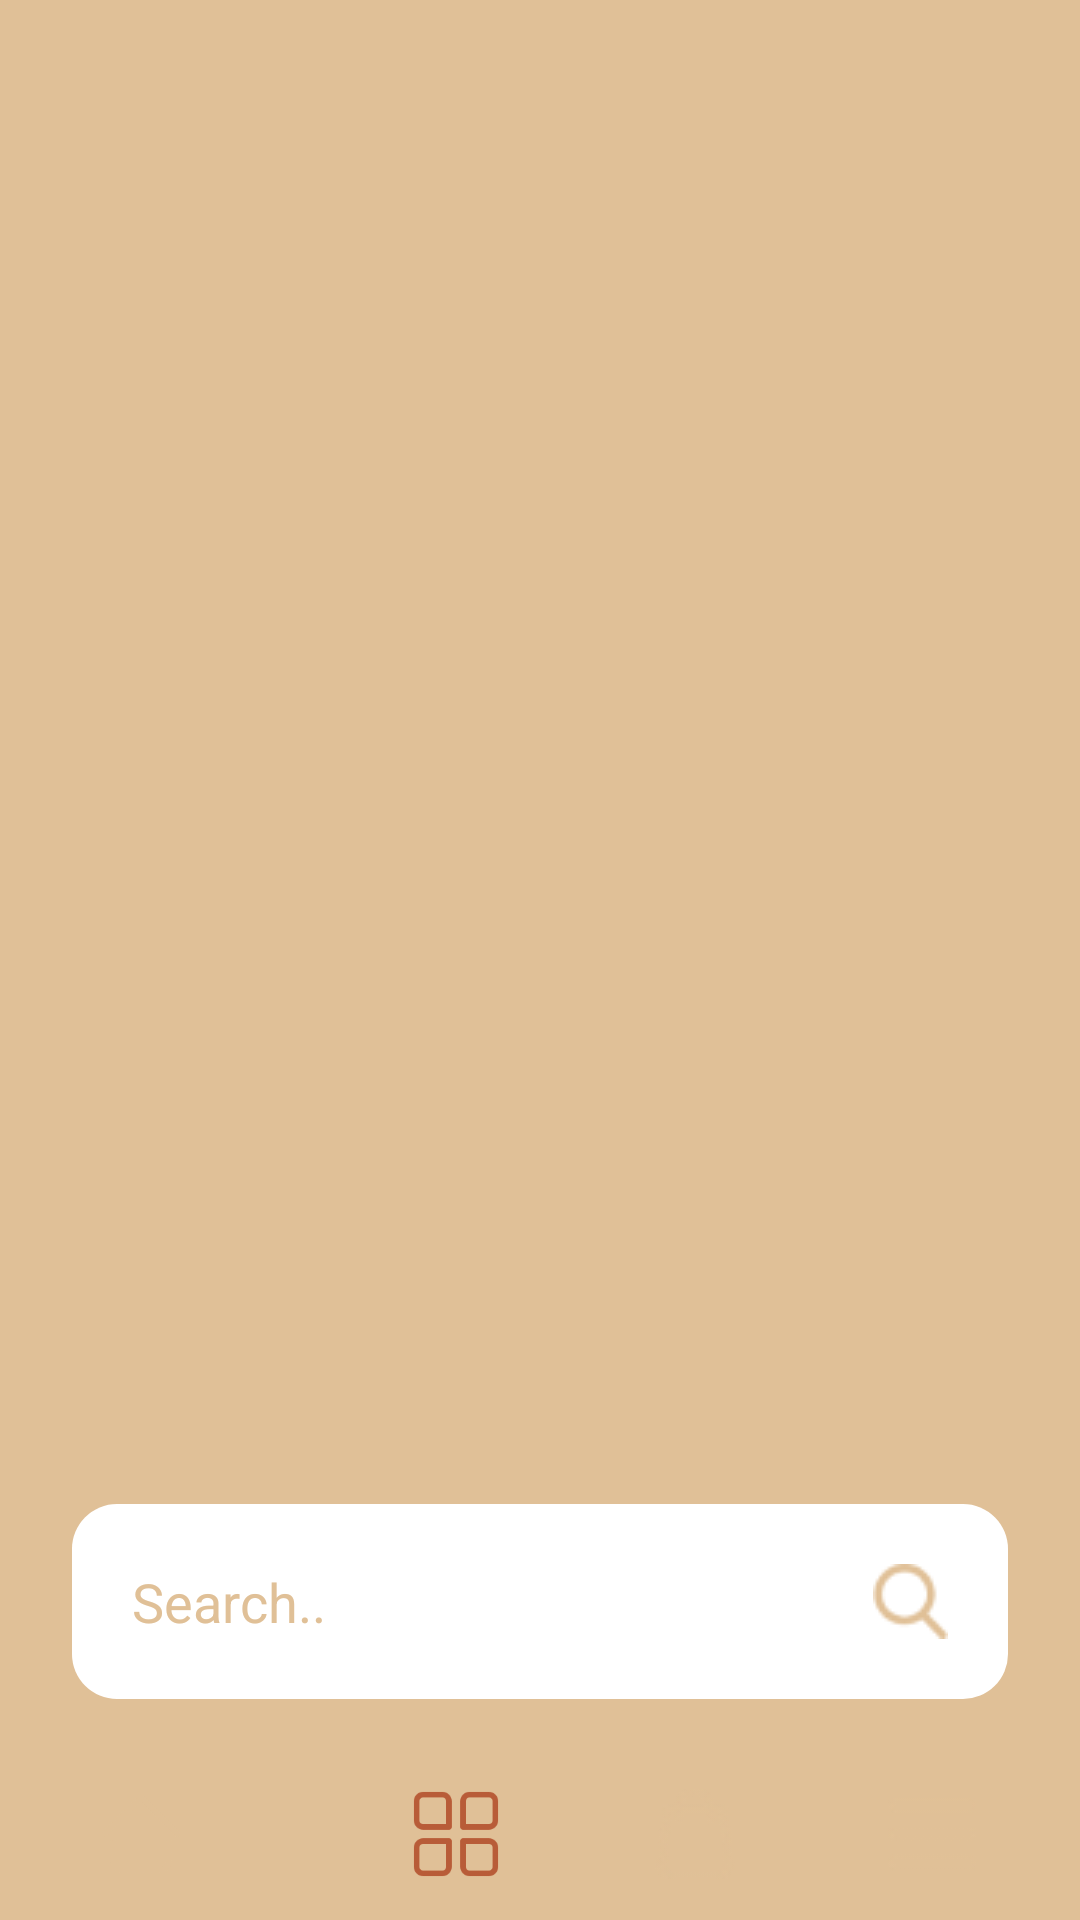

Named icons in this screenshot (1080 × 1920) and their bounding boxes, (x1, y1, x2, y2):
category: (414, 1792, 498, 1876)
